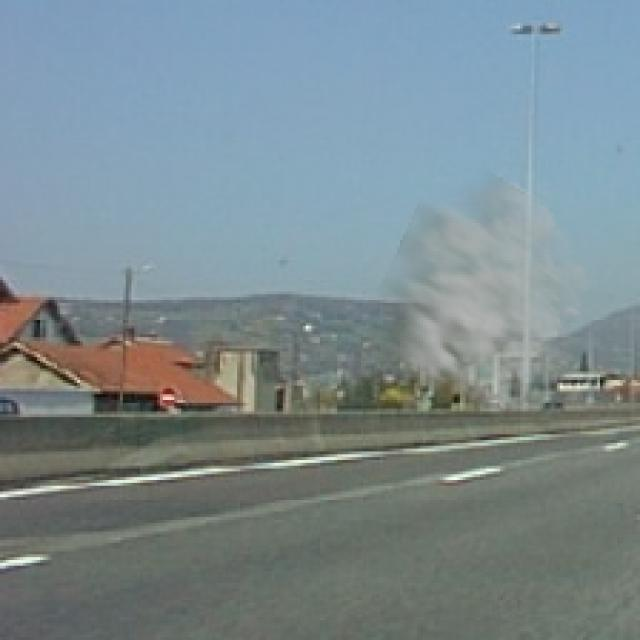Smoke: (354, 165, 600, 428)
